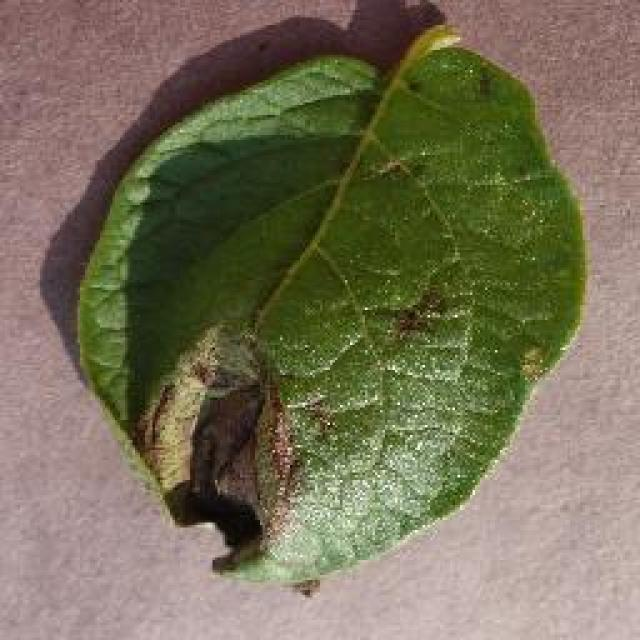Late_blight: (114, 322, 330, 568)
